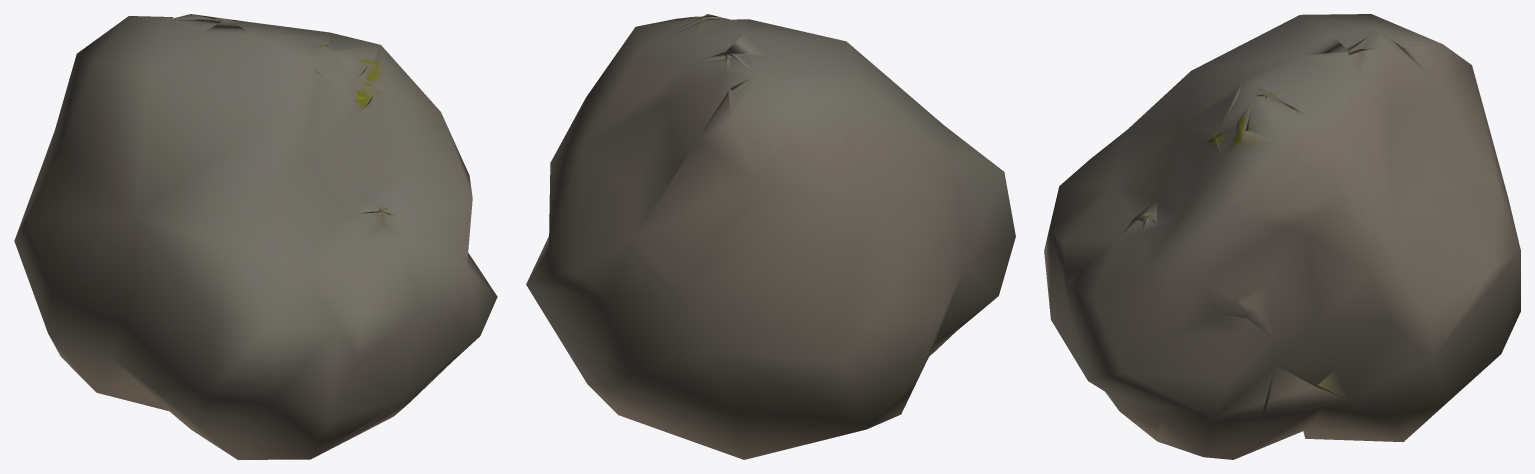
File: rock_b.glb
The picture shows the model from 3 angles, left to right: view 1: azimuth 30°, elevation 25°; view 2: azimuth 150°, elevation 25°; view 3: azimuth 270°, elevation 25°; orthographic projection. The views are drawn at different scales.
Parts seen in each view (by area): view 1: tripo_node_a0747d8b-6ab3-406e-8908-7e1796165977; view 2: tripo_node_a0747d8b-6ab3-406e-8908-7e1796165977; view 3: tripo_node_a0747d8b-6ab3-406e-8908-7e1796165977.
Boxes of the visible parts, <box> form: tripo_node_a0747d8b-6ab3-406e-8908-7e1796165977: <box>14,14,497,459</box>; tripo_node_a0747d8b-6ab3-406e-8908-7e1796165977: <box>526,14,1015,459</box>; tripo_node_a0747d8b-6ab3-406e-8908-7e1796165977: <box>1044,14,1520,459</box>.
Bounding box in the file's own units: 0.8652 × 0.7992 × 0.9705.
Materials: 1 (1 with a texture image).
